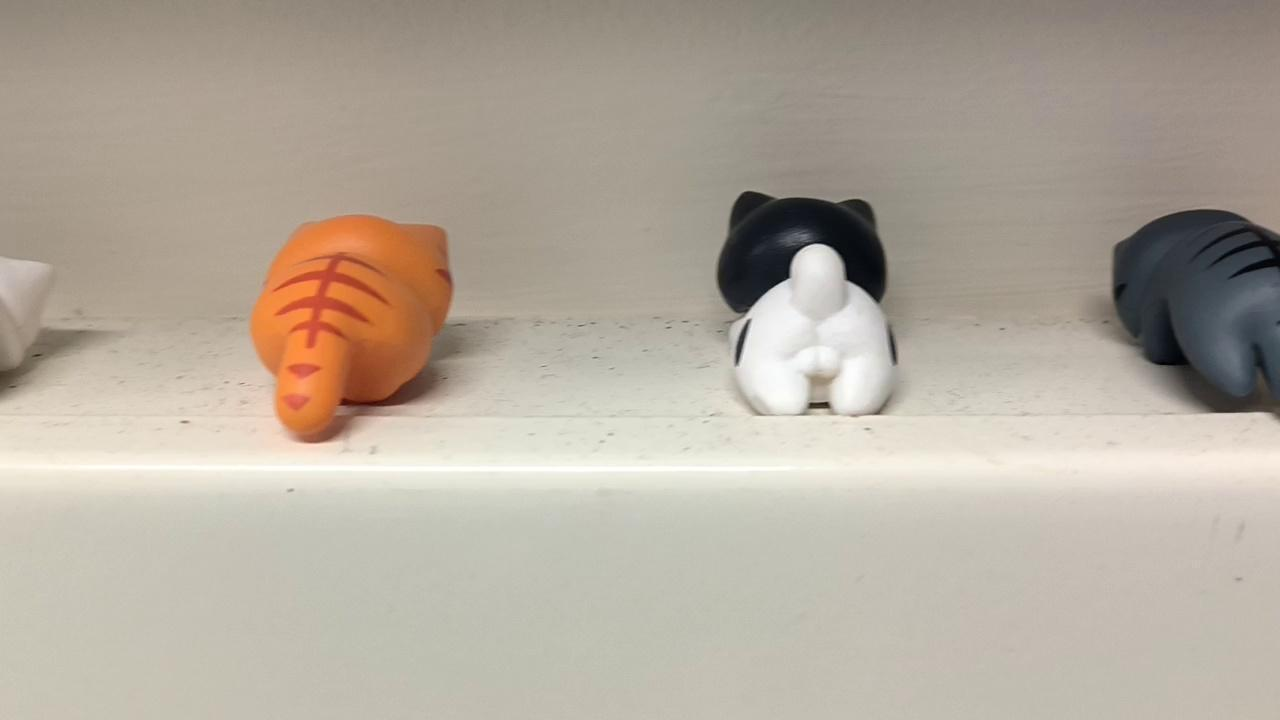pet: (245, 206, 462, 447), (703, 180, 910, 430), (1106, 193, 1280, 438)
